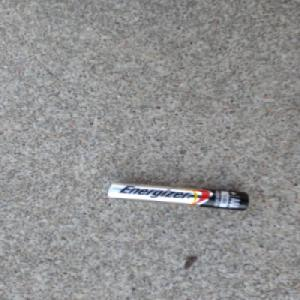Battery: (103, 180, 247, 212)
